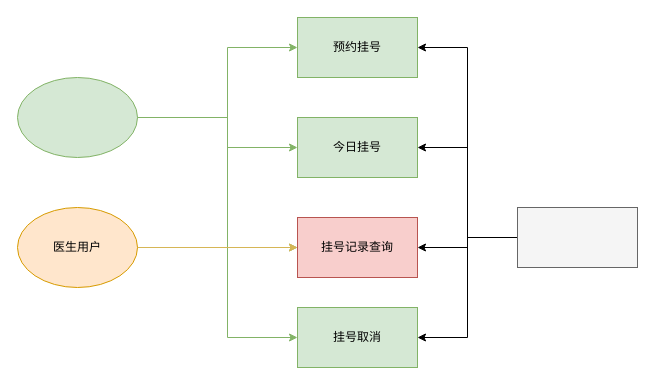
Some shapes in this 655 by 385 pixel diagram are drawn without their labels. Here are the shapes that lost their labels. From the top down, the centre of each, then its label:
At [77,117]: "普通用户".
At [577,237]: "挂号管理模块".
